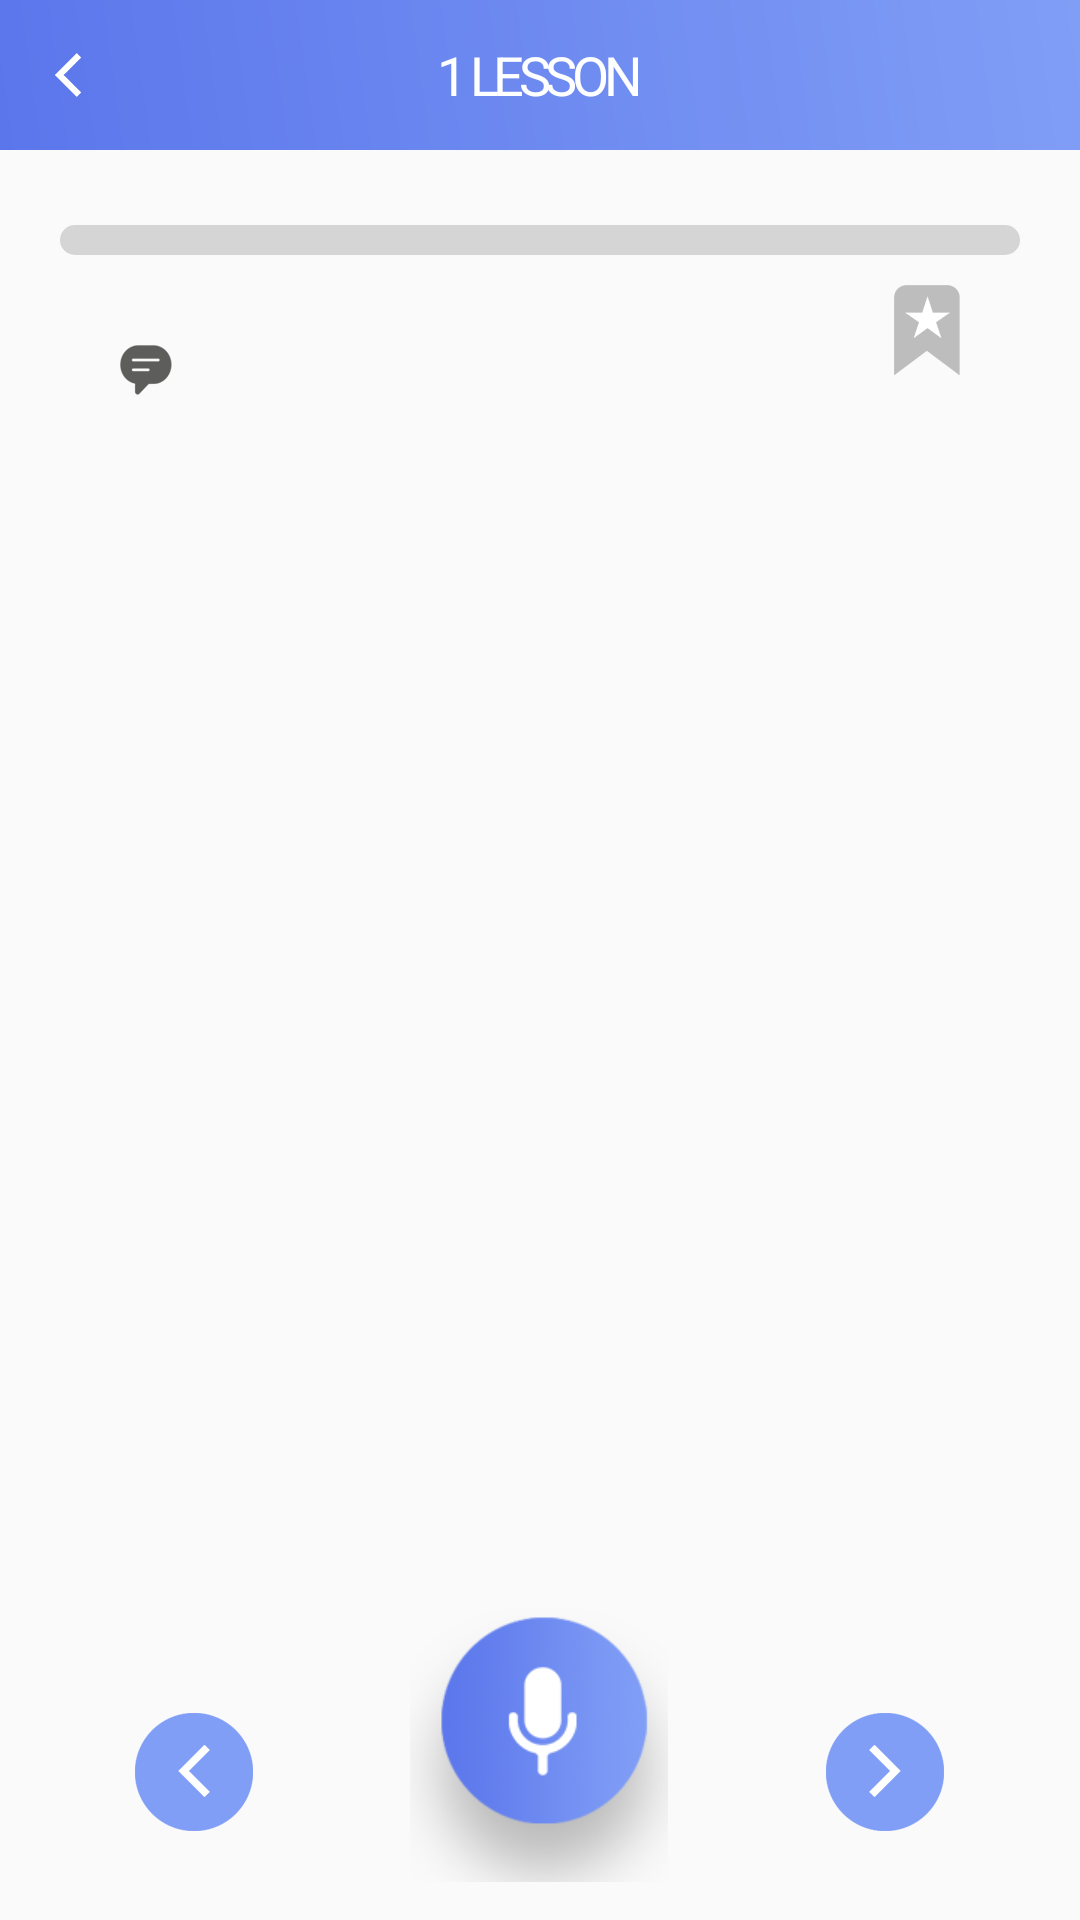

Point at icon controls on the screen. Image size 1080w x 1920h, points as [x,y].
mic: [544,1747]
